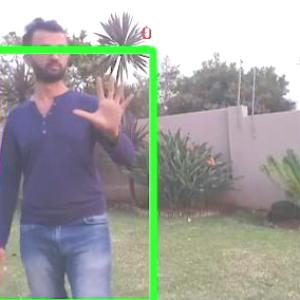follow_hand: (72, 70, 137, 138)
